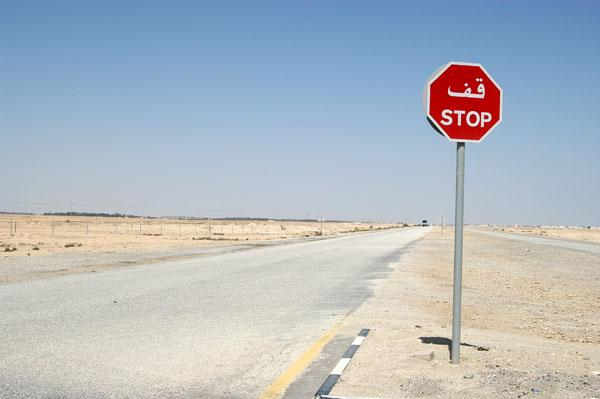Pole: (451, 143, 465, 362)
Sign: (429, 62, 503, 142)
